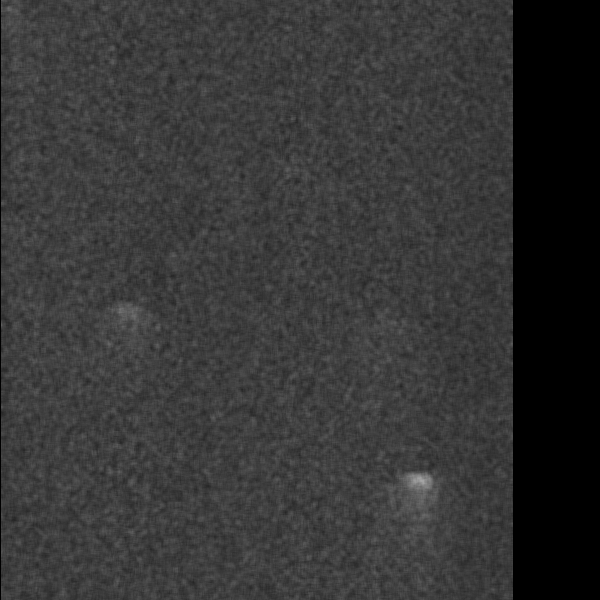spark: (350, 171, 386, 189)
